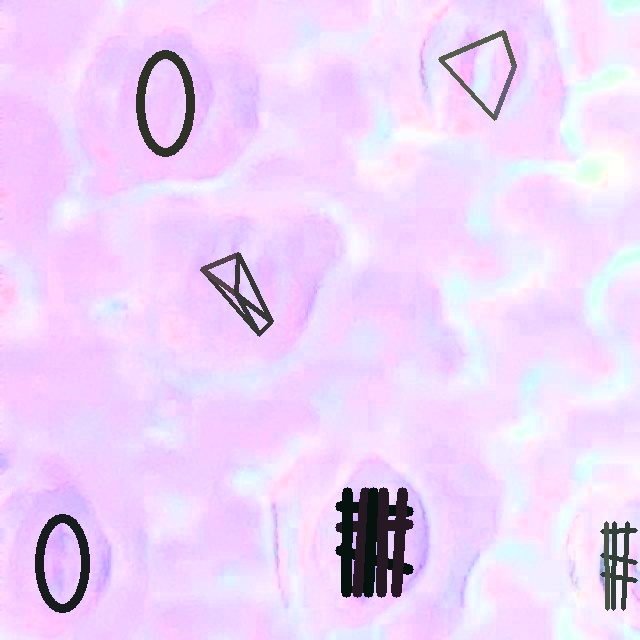close: (136, 49, 194, 157), (200, 252, 273, 336)
open: (335, 487, 413, 597), (438, 31, 515, 120), (34, 513, 89, 613), (600, 521, 637, 610)
